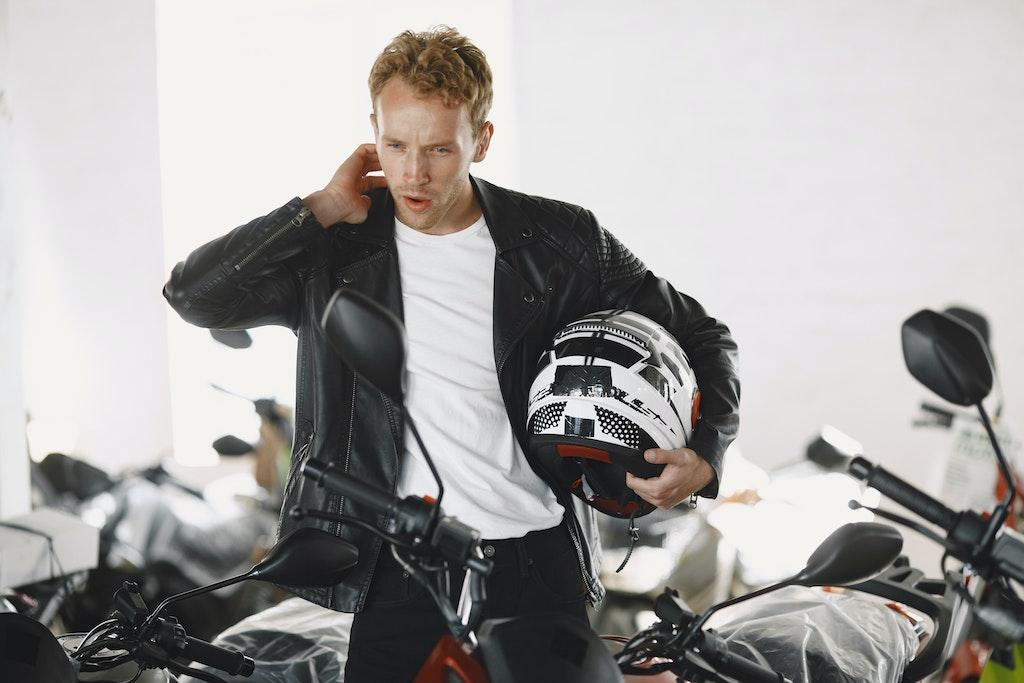helmet: (525, 307, 705, 520)
nohelmet: (366, 22, 495, 232)
